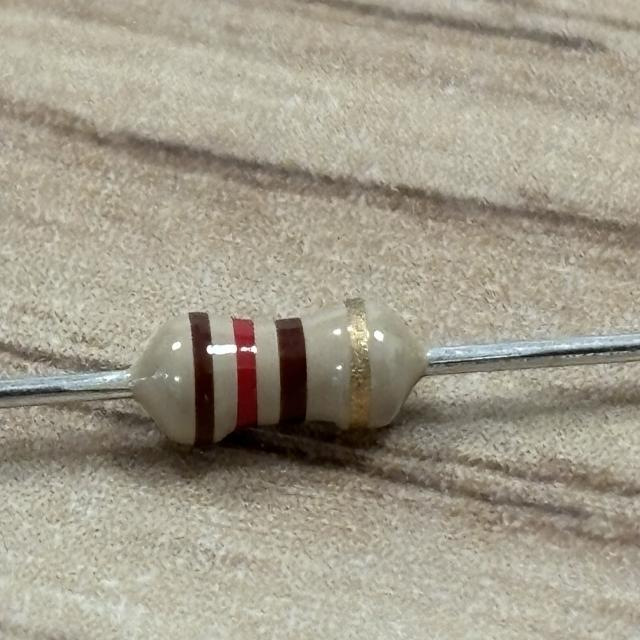resistor: (150, 294, 398, 453)
